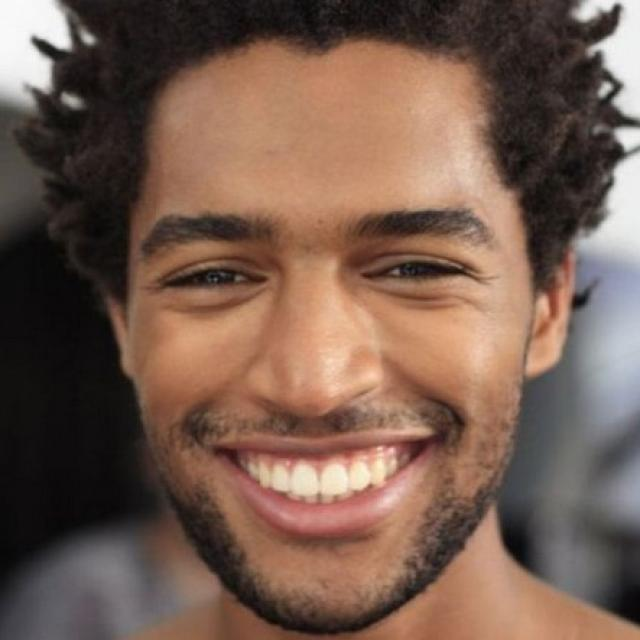Normal: (122, 42, 532, 636)
